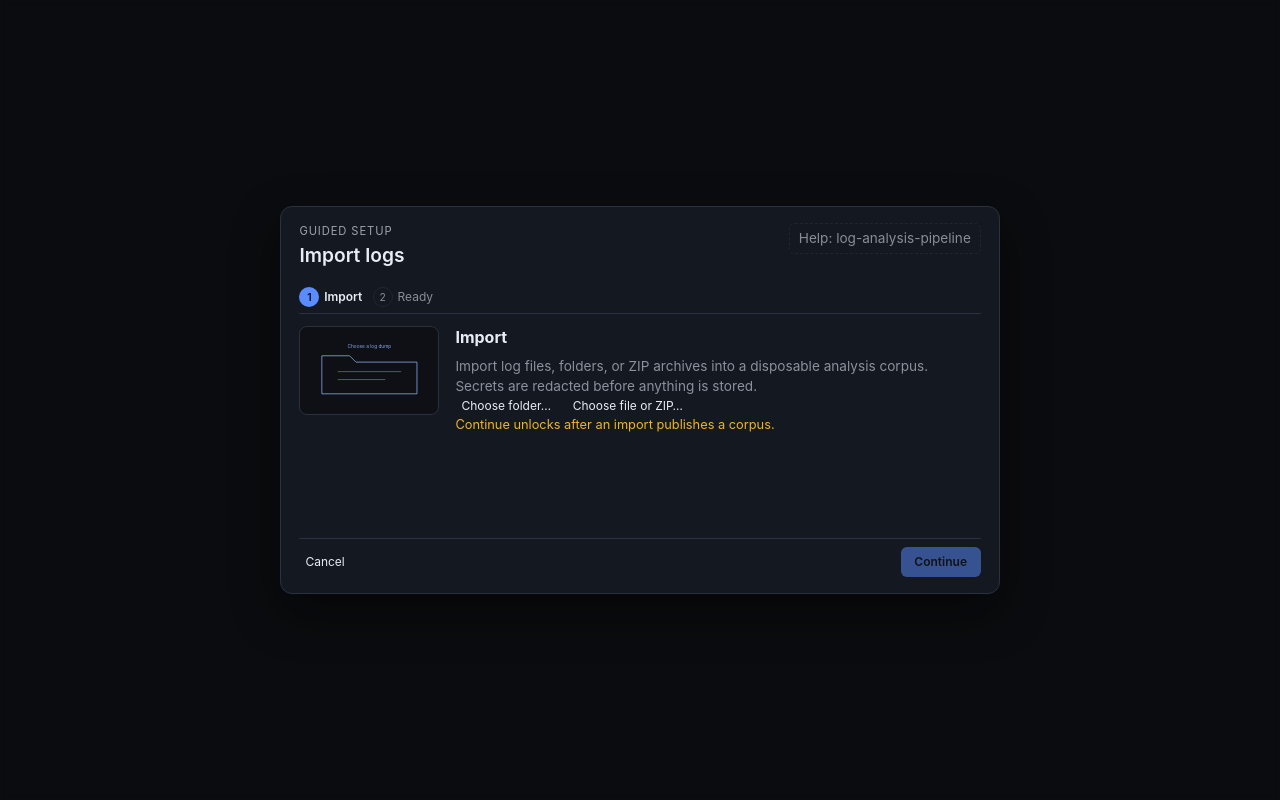
Scenario: GuidedImportWizard close acknowledgement › Escape during preview follows the same acknowledged close path
Click the button "Choose folder…" at (506, 406), box [455,396,557,416]
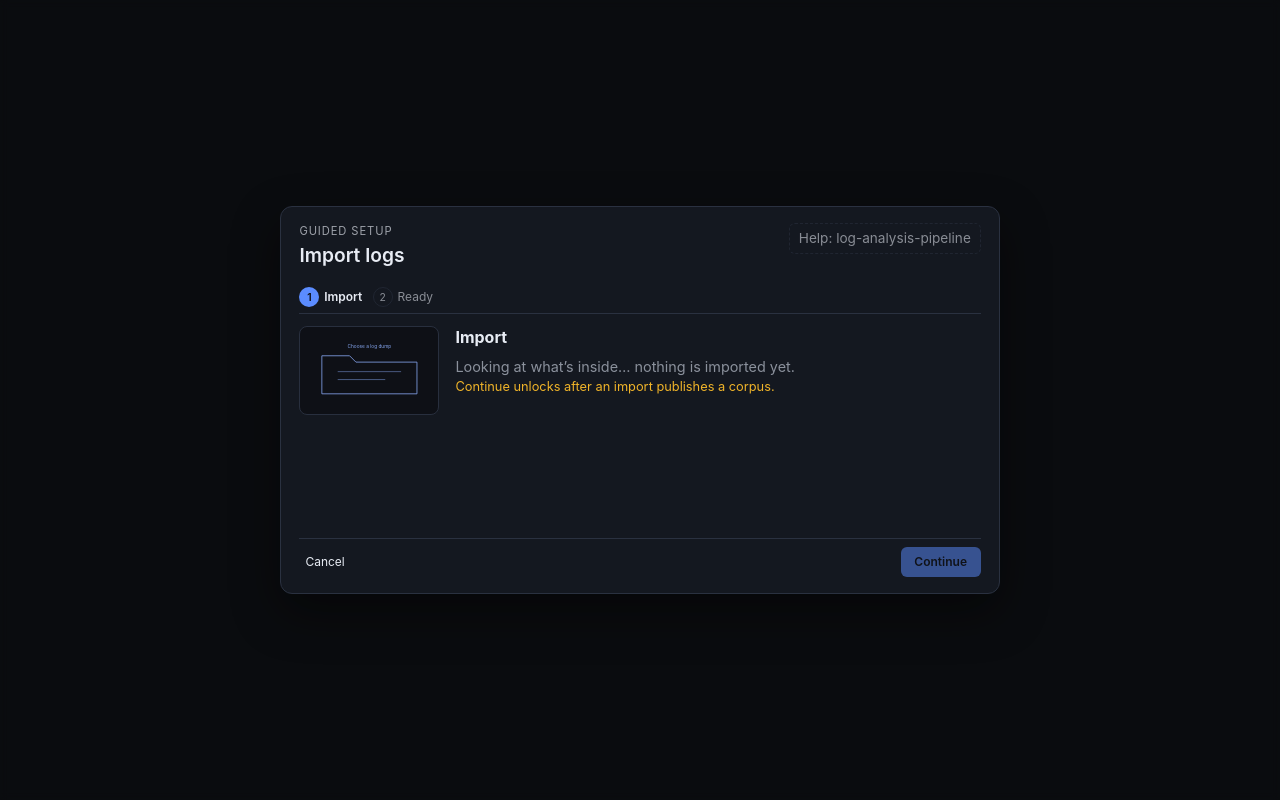
Check: the text "Looking at what’s inside… nothing is imported yet." is shown, box [455,358,795,375]
Press Escape in the dialog, box [280,206,1000,594]
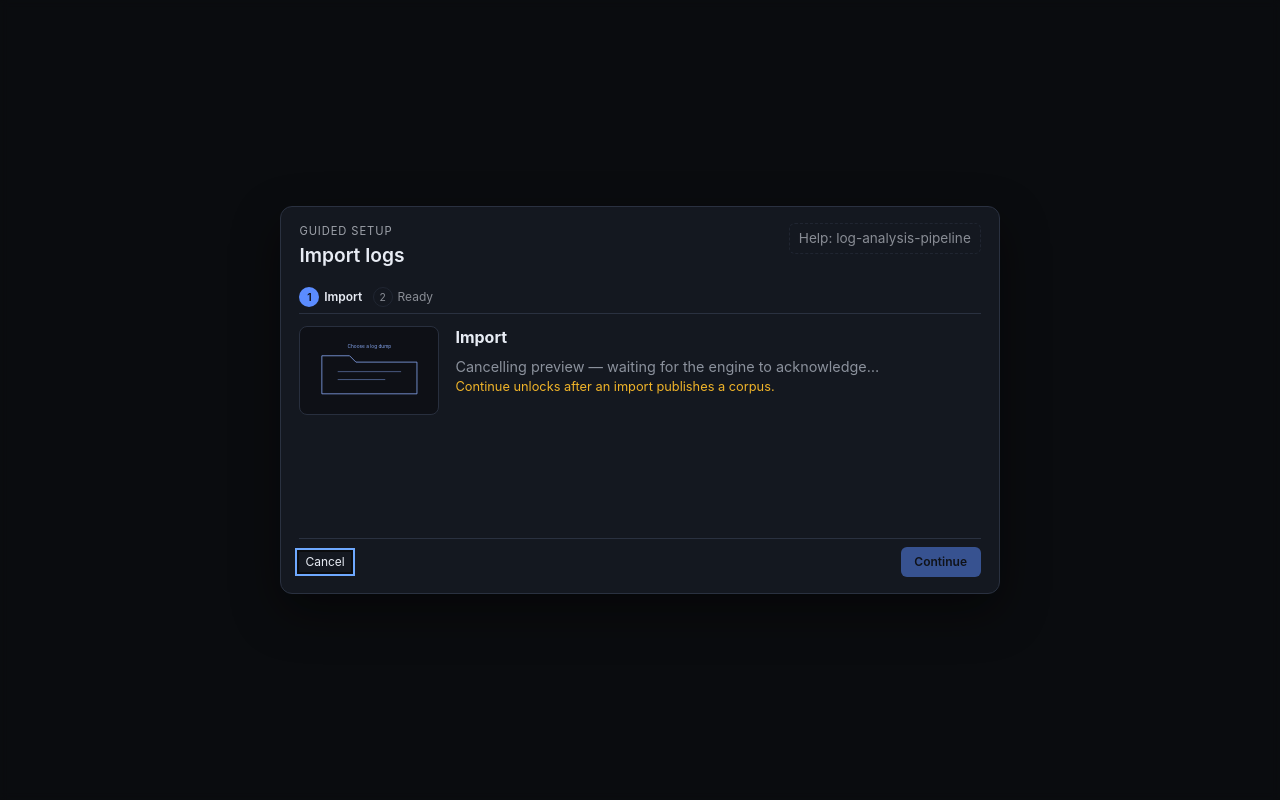
Check: the text "Cancelling preview — waiting for the engine to acknowledge…" is shown, box [455,358,879,375]
